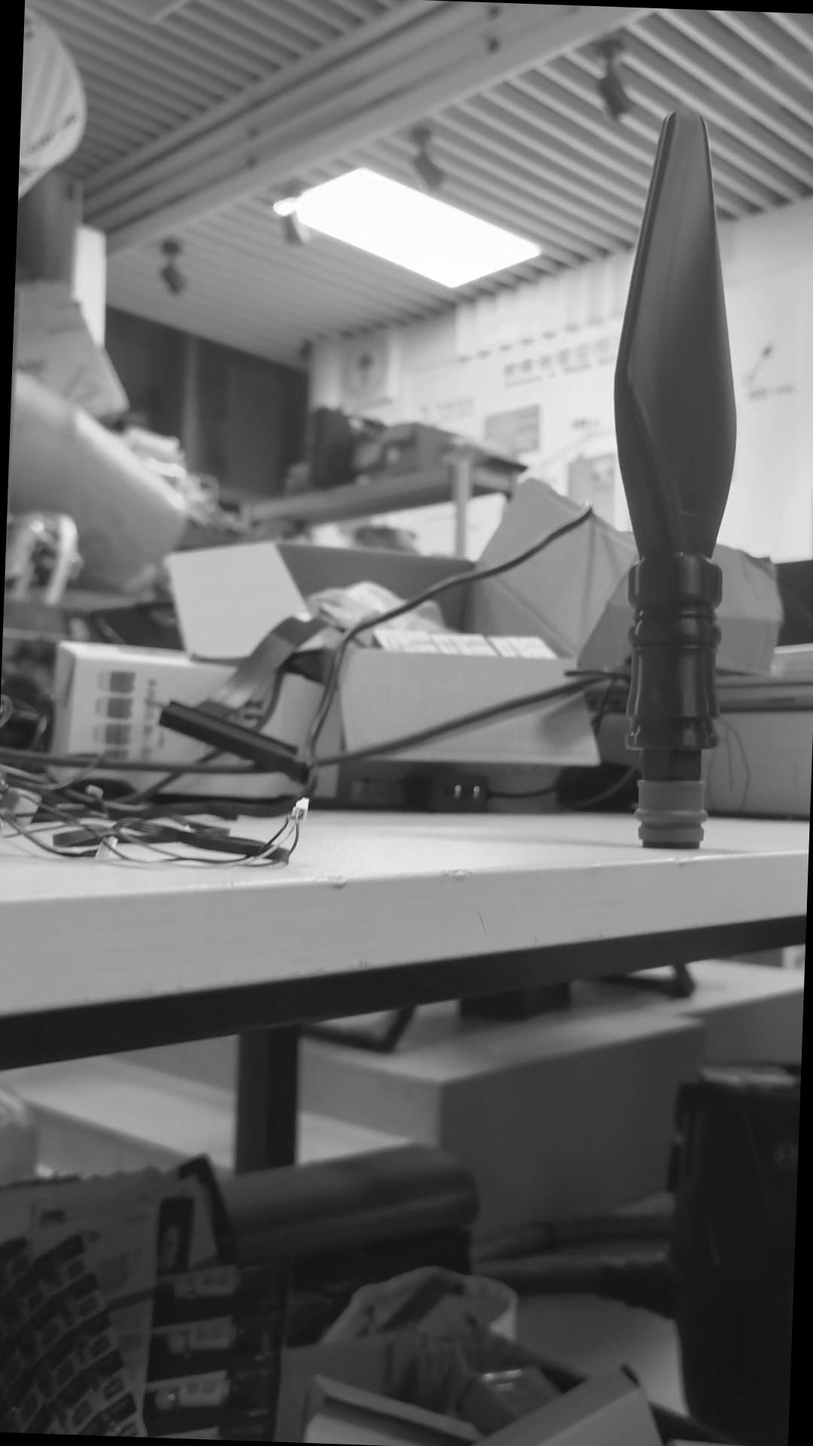base: (625, 771, 714, 861)
